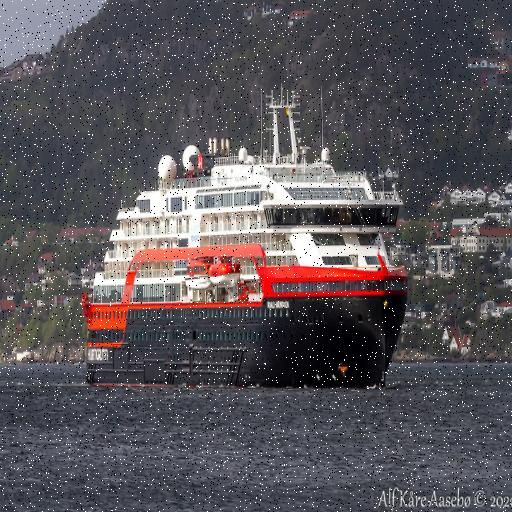cruises: (78, 78, 414, 396)
